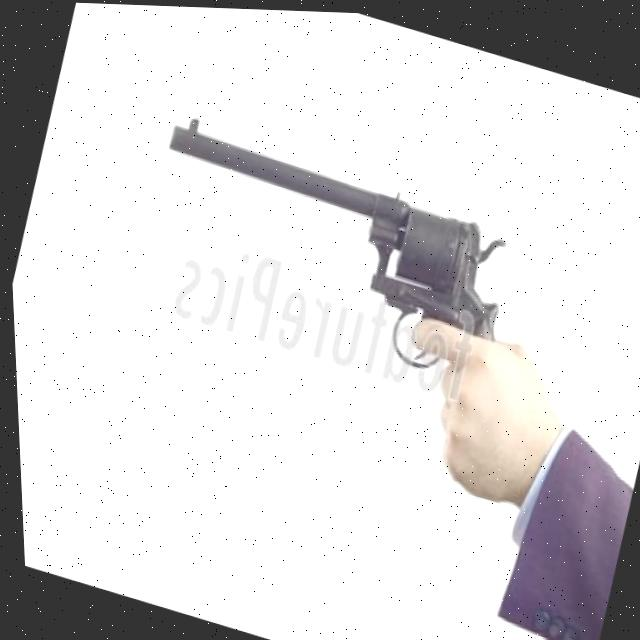pistol: (125, 103, 525, 385)
